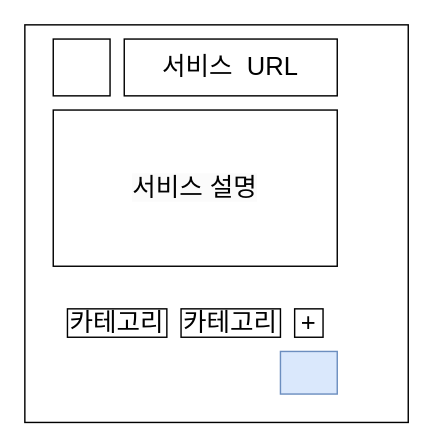
Some shapes in this 433 by 447 pixel diagram are drawn without their labels. Each missing label, with the box of its shape:
등록: (279, 350, 337, 394)
로고: (52, 38, 110, 96)
